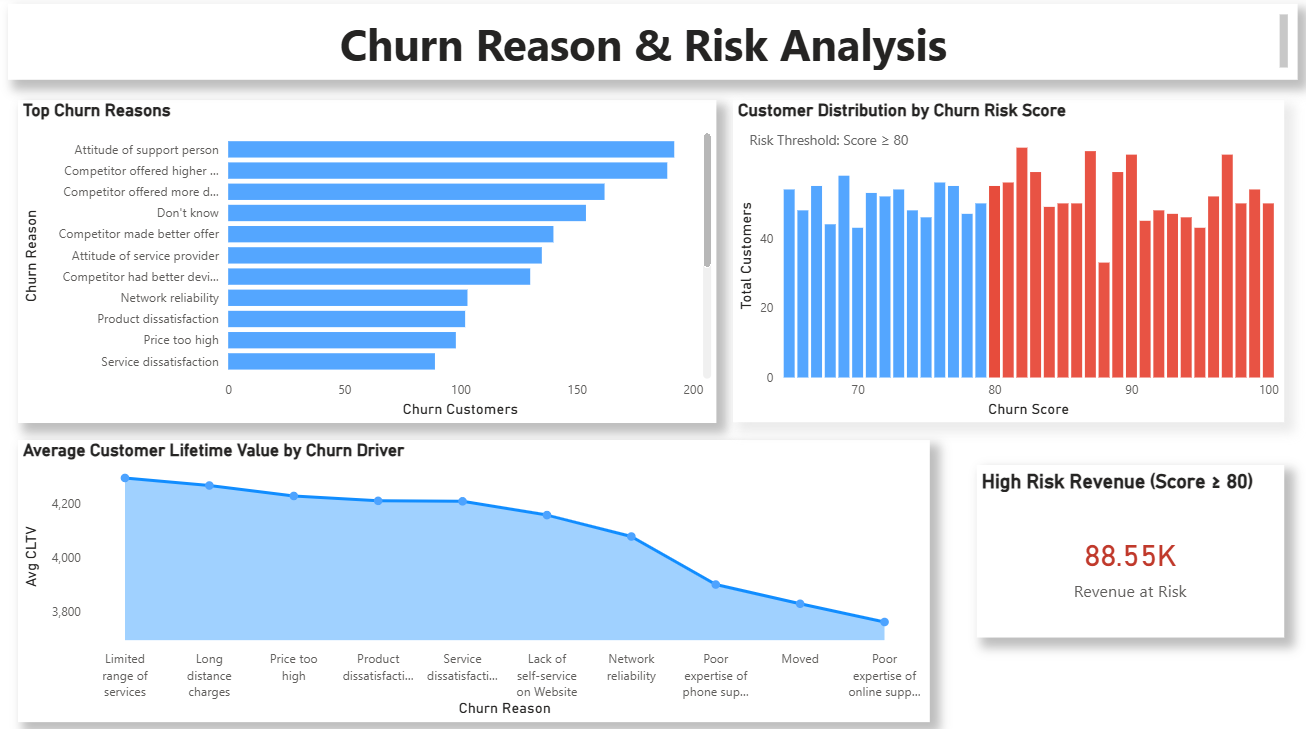

The page's visual inventory and layout, read from the dashboard file:
{"tool":"powerbi","page":{"name":"Churn Reason & Risk Analysis","canvas":[1280,720],"ordinal":2},"visuals":[{"type":"barChart","title":"Top Churn Reasons","fields":{"Category":["Telco_Churn.Churn Reason"],"Y":["Telco_Churn.Churn Customers"]},"box":[19.2,102.9,683.4,315.6],"z":0},{"type":"areaChart","title":"Average Customer Lifetime Value by Churn Driver","fields":{"Category":["Telco_Churn.Churn Reason"],"Y":["Telco_Churn.Avg CLTV"]},"box":[19.2,435,891.9,275.8],"z":1000},{"type":"clusteredColumnChart","title":"Customer Distribution by Churn Risk Score","fields":{"Category":["Telco_Churn.Churn Score"],"Y":["Telco_Churn.Total Customers"]},"box":[719,102.9,561.2,315.6],"z":2000},{"type":"card","title":"High Risk Revenue (Score ≥ 80)","fields":{"Values":["Telco_Churn.Revenue at Risk"]},"box":[957.5,459.8,300.8,168.8],"z":3000},{"type":"textbox","box":[0,0,1280.3,83.7],"z":4000},{"type":"textbox","box":[730,127.6,216.8,49.4],"z":5000}]}

Visuals, with their boxes in screenshot pixels (x1, y1, x2, y2), scaled from the page's 1280x720 canvas onto the 1306x729 screenshot:
"Top Churn Reasons" barChart: (left=20, top=104, right=717, bottom=424)
"Average Customer Lifetime Value by Churn Driver" areaChart: (left=20, top=440, right=930, bottom=720)
"Customer Distribution by Churn Risk Score" clusteredColumnChart: (left=734, top=104, right=1305, bottom=424)
"High Risk Revenue (Score ≥ 80)" card: (left=977, top=466, right=1284, bottom=636)
textbox: (left=0, top=0, right=1305, bottom=85)
textbox: (left=745, top=129, right=966, bottom=179)
